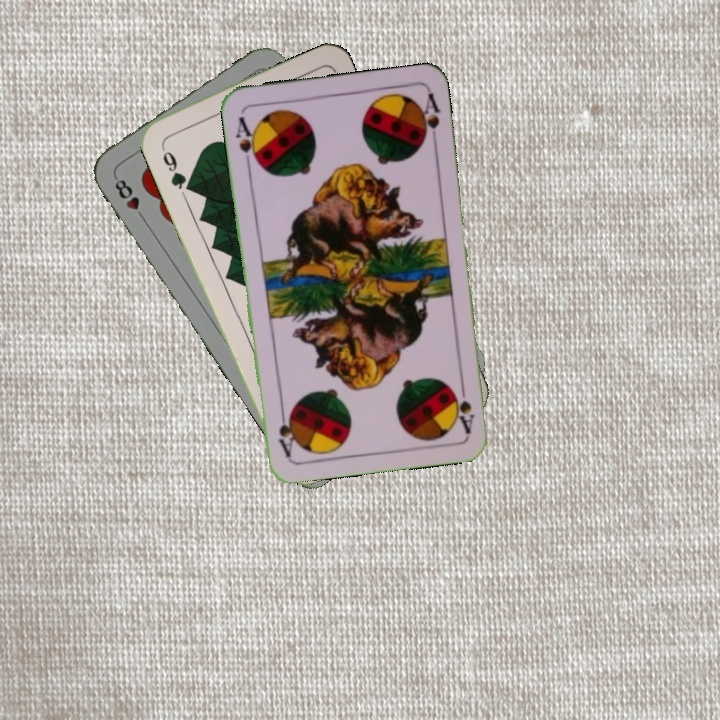G9: (157, 139, 193, 193)
H8: (110, 173, 149, 224)
SA: (231, 112, 262, 170), (449, 376, 477, 436)
